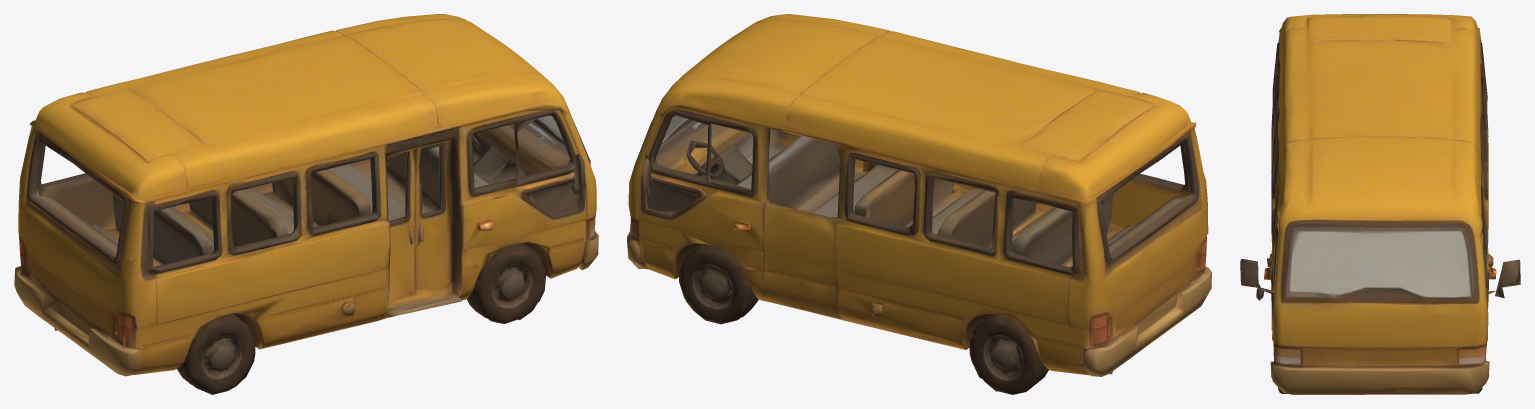
The model's file is journey_bus_parked.glb.
The picture shows the model from 3 angles, left to right: view 1: azimuth 30°, elevation 25°; view 2: azimuth 150°, elevation 25°; view 3: azimuth 270°, elevation 25°; orthographic projection. The views are drawn at different scales.
Visible parts, largest first — view 1: tripo_node_977236e7-b36c-4abb-baf3-3074b2e2e22d; view 2: tripo_node_977236e7-b36c-4abb-baf3-3074b2e2e22d; view 3: tripo_node_977236e7-b36c-4abb-baf3-3074b2e2e22d.
Part boxes in pixels (box(x1,y1,x2,y2)): tripo_node_977236e7-b36c-4abb-baf3-3074b2e2e22d: box(14, 14, 598, 394); tripo_node_977236e7-b36c-4abb-baf3-3074b2e2e22d: box(627, 14, 1211, 394); tripo_node_977236e7-b36c-4abb-baf3-3074b2e2e22d: box(1240, 14, 1520, 394).
Bounding box in the file's own units: 1 × 0.4725 × 0.5445.
Materials: 1 (1 with a texture image).
